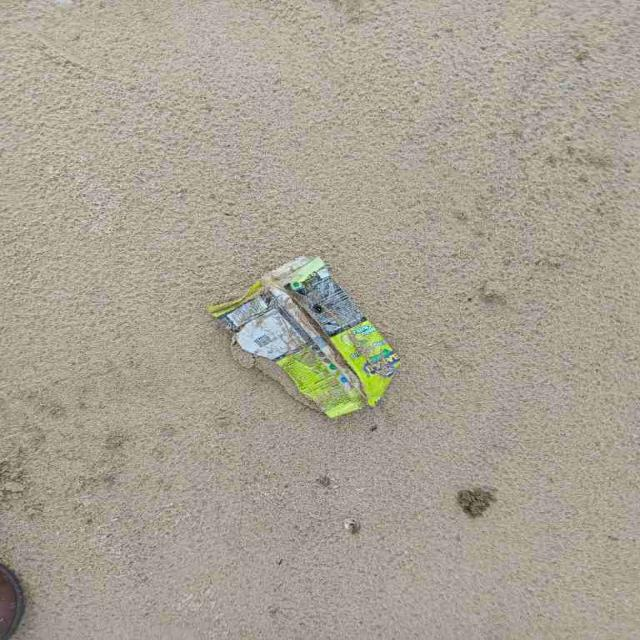giay_goi: (208, 256, 400, 419)
